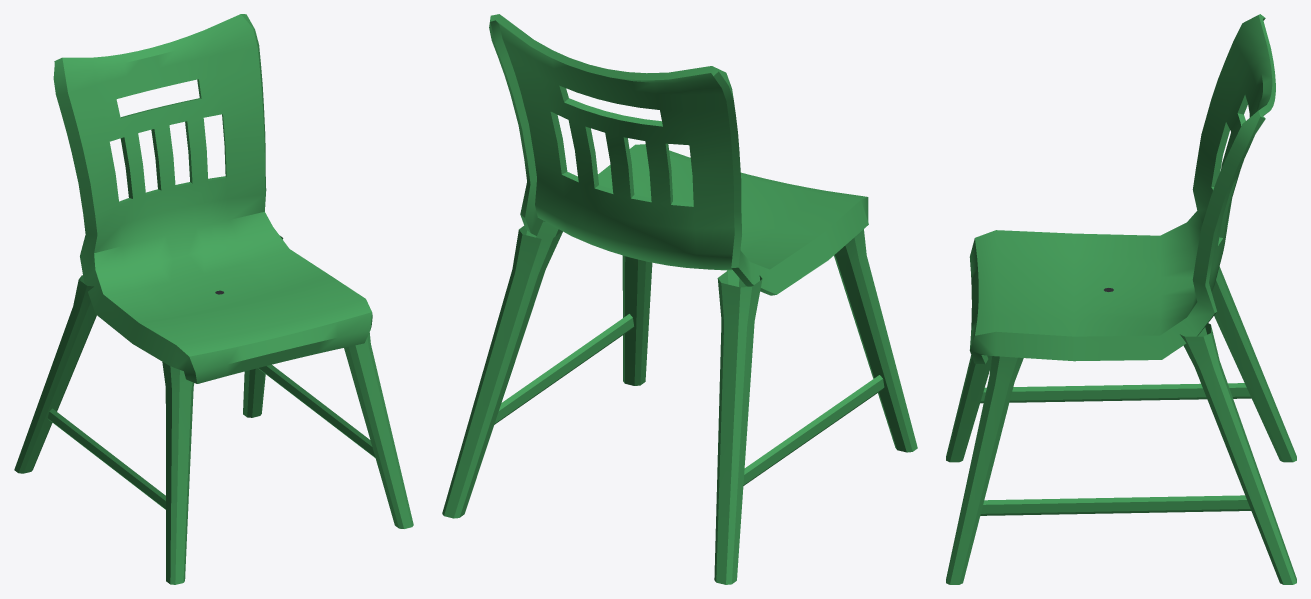
File: SC_Ter_Chair_Plastic_Green.gltf
3 renders of one model, left to right at view 1: azimuth 30°, elevation 25°; view 2: azimuth 150°, elevation 25°; view 3: azimuth 270°, elevation 25°, orthographic. The views are drawn at different scales.
Visible parts, largest first — view 1: SC_Ter_Chair_Plastic_Green; view 2: SC_Ter_Chair_Plastic_Green; view 3: SC_Ter_Chair_Plastic_Green.
Boxes of the visible parts, box(x1,y1,x2,y2) form: SC_Ter_Chair_Plastic_Green: box(14, 14, 413, 584); SC_Ter_Chair_Plastic_Green: box(442, 14, 917, 584); SC_Ter_Chair_Plastic_Green: box(946, 14, 1296, 584).
Size of the model in its own units: 0.5363 by 0.8763 by 0.6094.
Materials: 1 (1 with a texture image).
